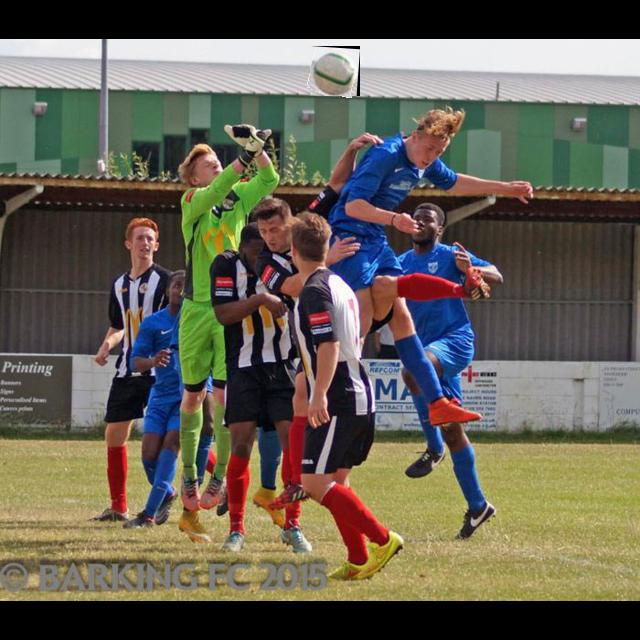Football: (310, 46, 360, 96)
